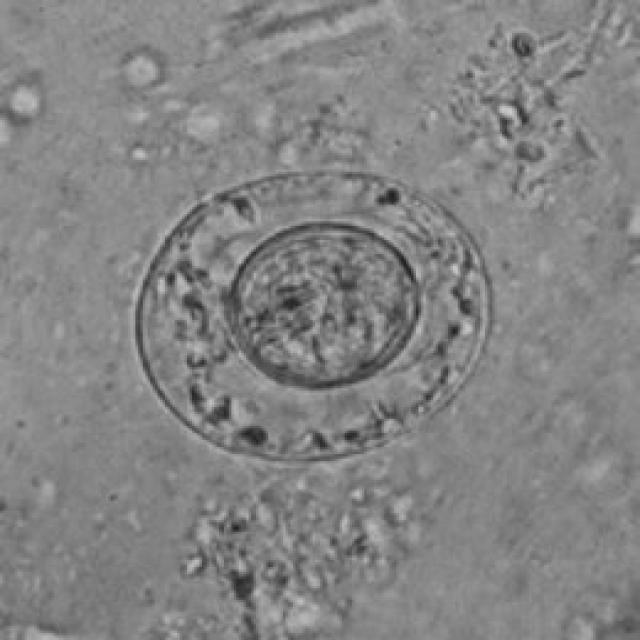Hymenolepis: (127, 164, 501, 462)
